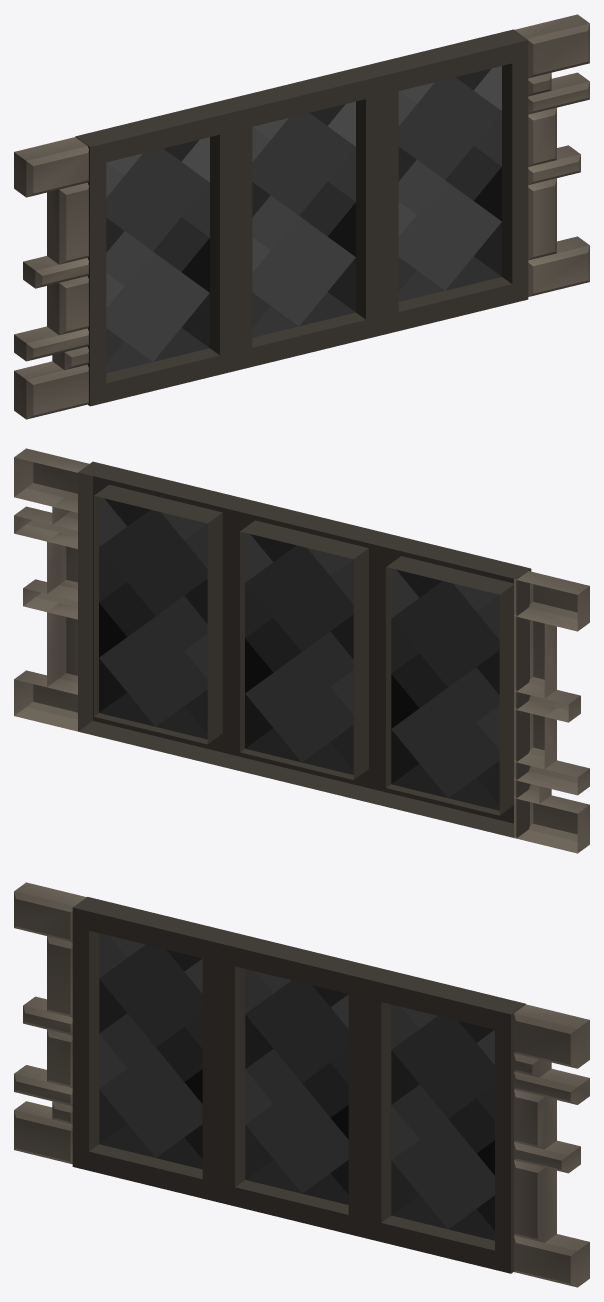
Rendered from Window-Wide_C.fbx.
3 renders of one model, top to bottom at view 1: azimuth 30°, elevation 25°; view 2: azimuth 150°, elevation 25°; view 3: azimuth 330°, elevation 25°, orthographic.
Parts seen in each view (by area): view 1: Window-Wide_C; view 2: Window-Wide_C; view 3: Window-Wide_C.
Part boxes in pixels (box(x1,y1,x2,y2)): Window-Wide_C: box(14, 14, 589, 419); Window-Wide_C: box(14, 448, 589, 853); Window-Wide_C: box(14, 882, 589, 1287).
Bounding box in the file's own units: 322 × 141 × 15.
